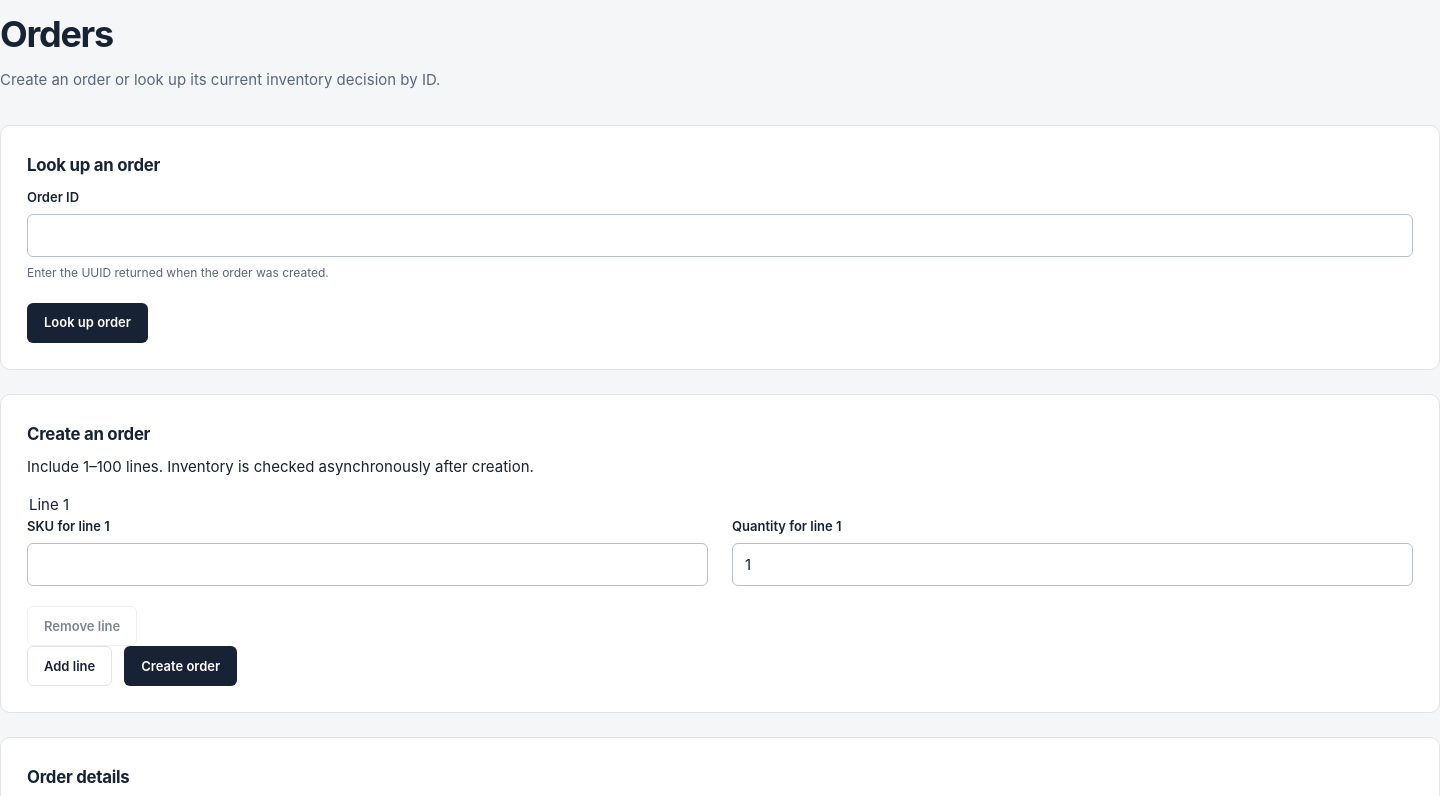
Orders operations › synchronously blocks duplicate create submissions and competing lookup requests
Step 1. Type "SKU-1" into the field labelled "SKU for line 1" → (368, 565), box [27,543,708,586]
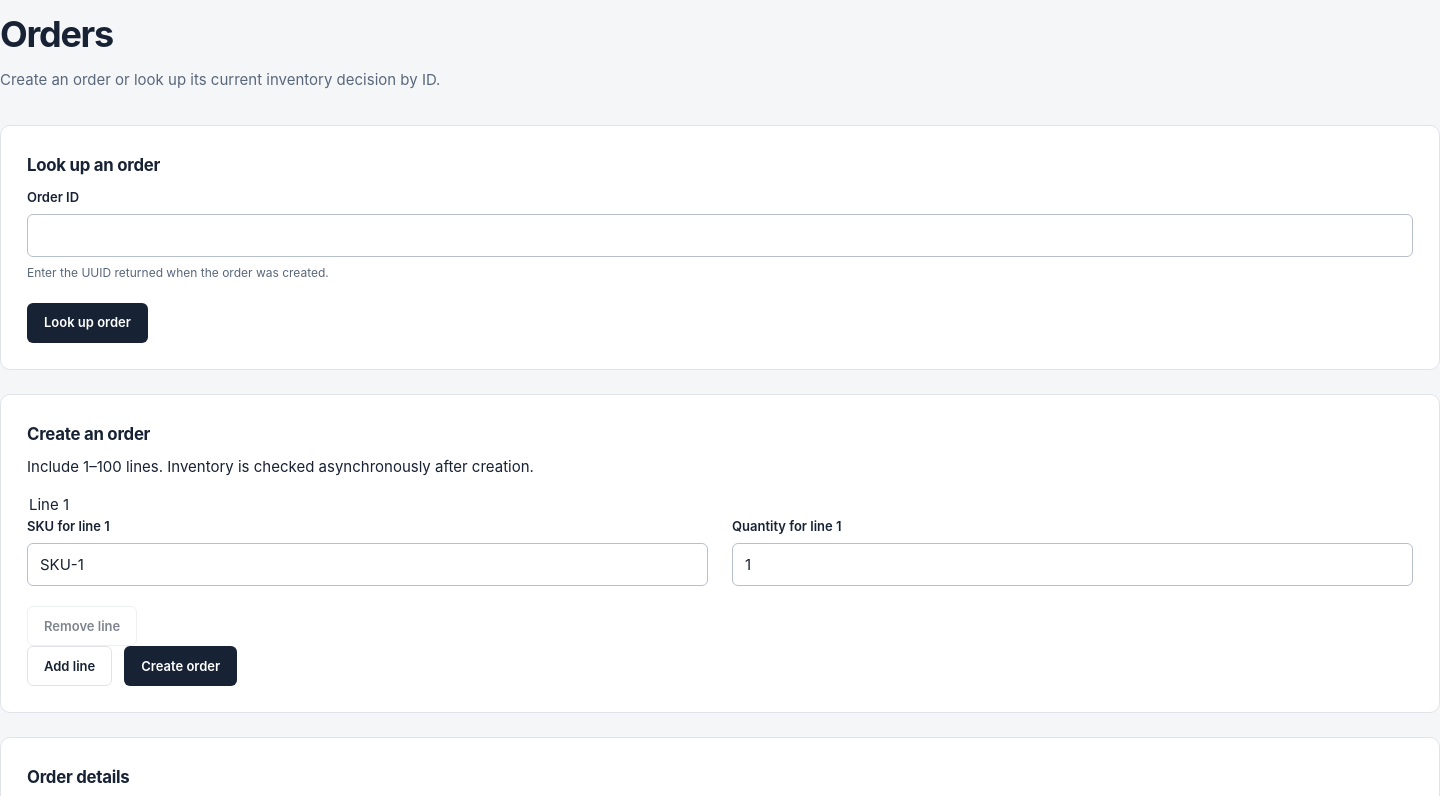
Step 2. Replace the text in the field labelled "Quantity for line 1" with "2" → (1072, 565), box [732,543,1413,586]
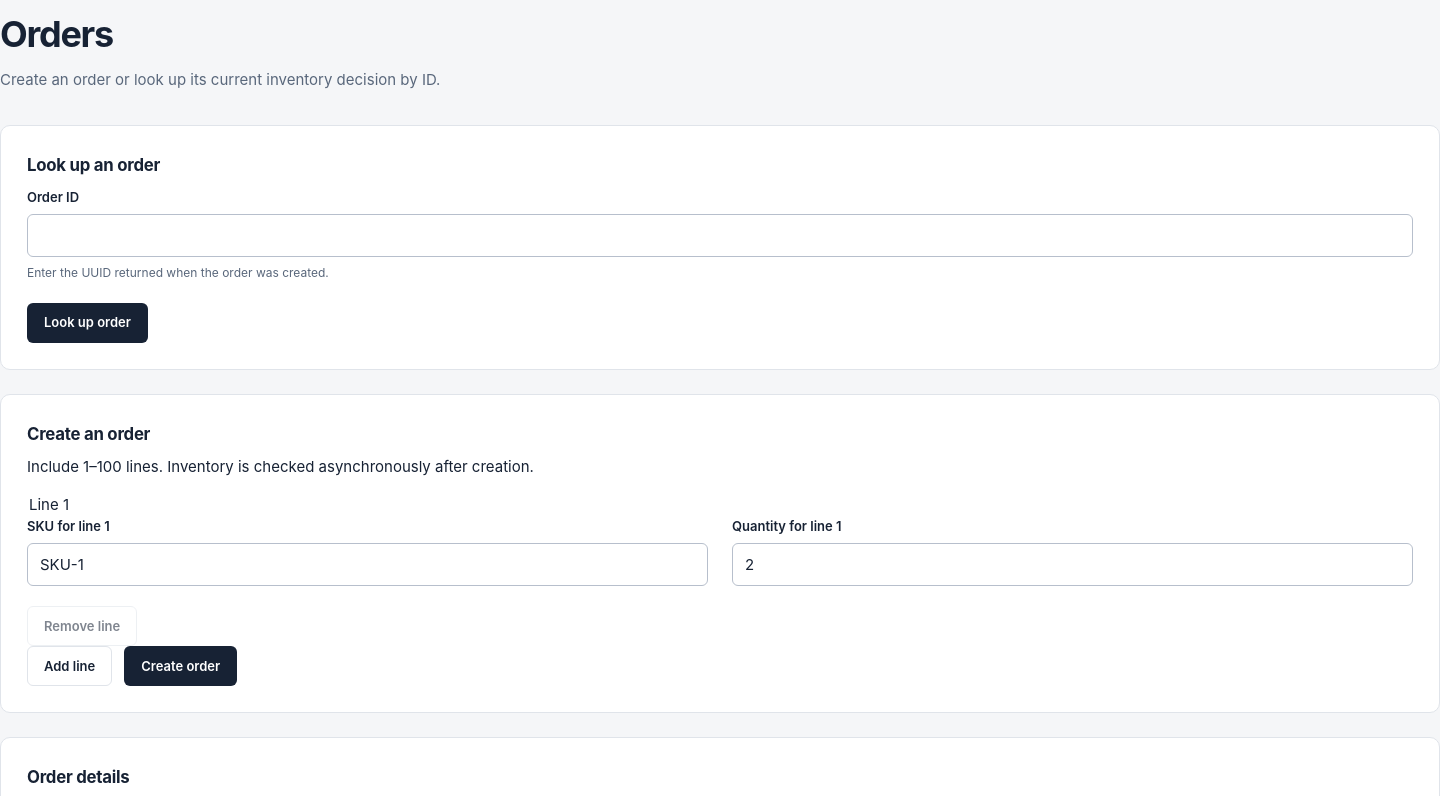
Step 3. Submit the form "Create order", box [27,493,1413,686]
Step 4. Submit the form "Create order", box [27,493,1413,686]
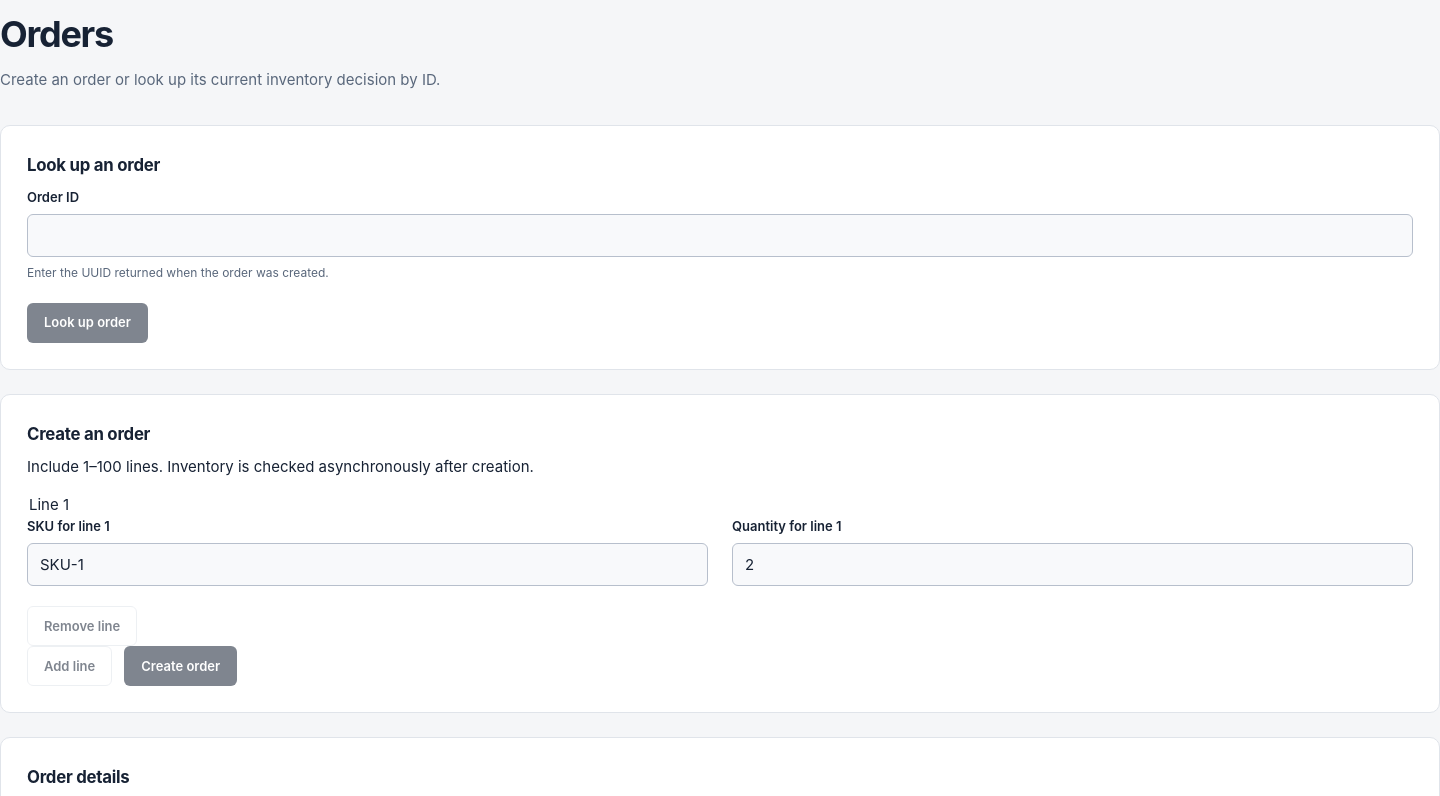
Expected: the field labelled "Order ID" is disabled, [27,214,1413,257]
Expected: the button "Look up order" is disabled, [27,302,148,342]
Expected: the button "Add line" is disabled, [27,646,112,686]
Step 5. Submit the form "Look up order", box [27,186,1413,342]
(page scrolled)
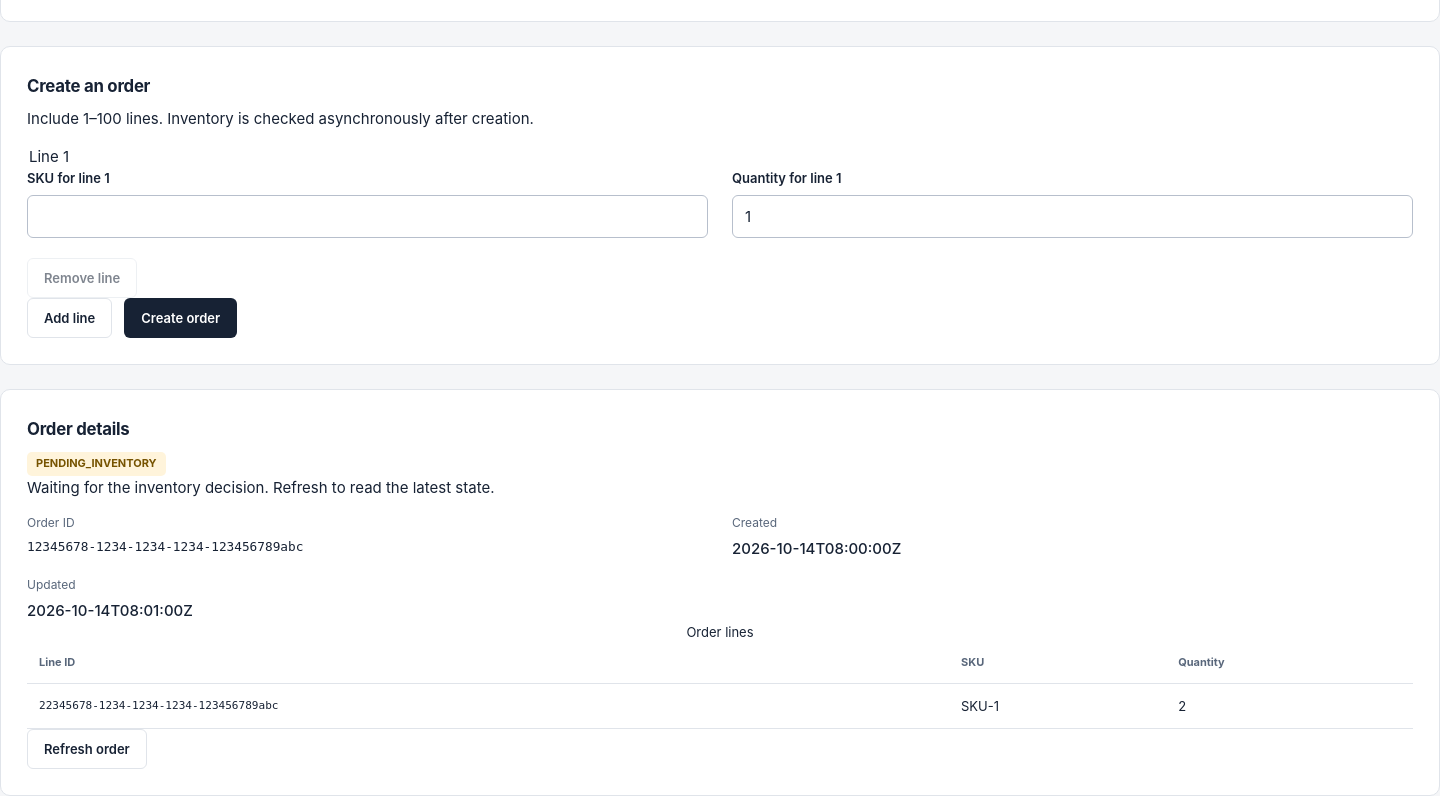
Expected: the text "PENDING_INVENTORY" is shown, [27,452,166,476]
